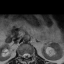CCS_normal: (25, 51, 27, 60)
LFS_normal: (30, 51, 32, 59)
LLS_normal: (27, 51, 30, 59)
RFS_normal: (20, 51, 23, 59)
RLS_normal: (23, 51, 25, 59)
